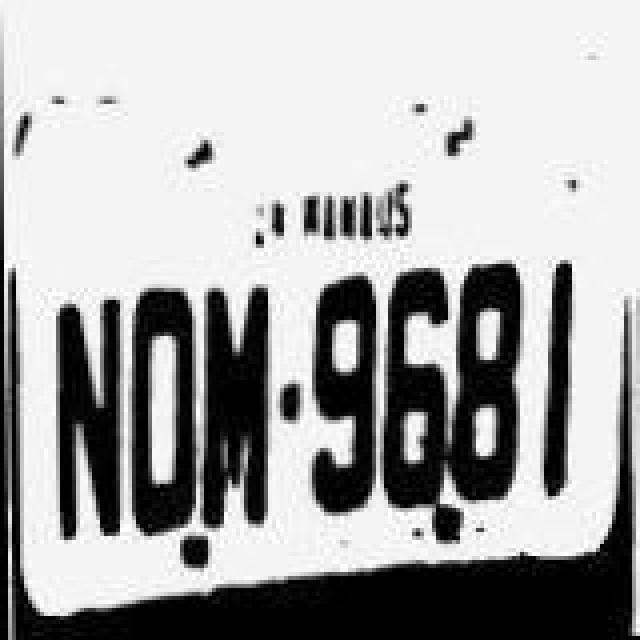1: (536, 248, 592, 504)
6: (374, 260, 450, 512)
8: (442, 256, 526, 508)
9: (300, 264, 380, 516)
M: (186, 280, 270, 532)
N: (46, 288, 130, 544)
O: (120, 284, 200, 540)
